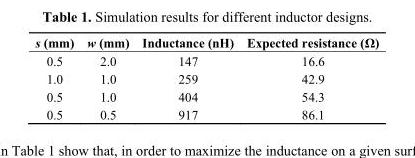table: (34, 34, 378, 121)
table column: (239, 34, 378, 121), (134, 34, 239, 121), (79, 34, 134, 121), (34, 34, 79, 121)
table column header: (34, 34, 378, 51)
table row: (34, 51, 378, 69), (34, 69, 378, 87), (34, 87, 378, 105), (34, 34, 378, 51), (34, 105, 378, 121)
